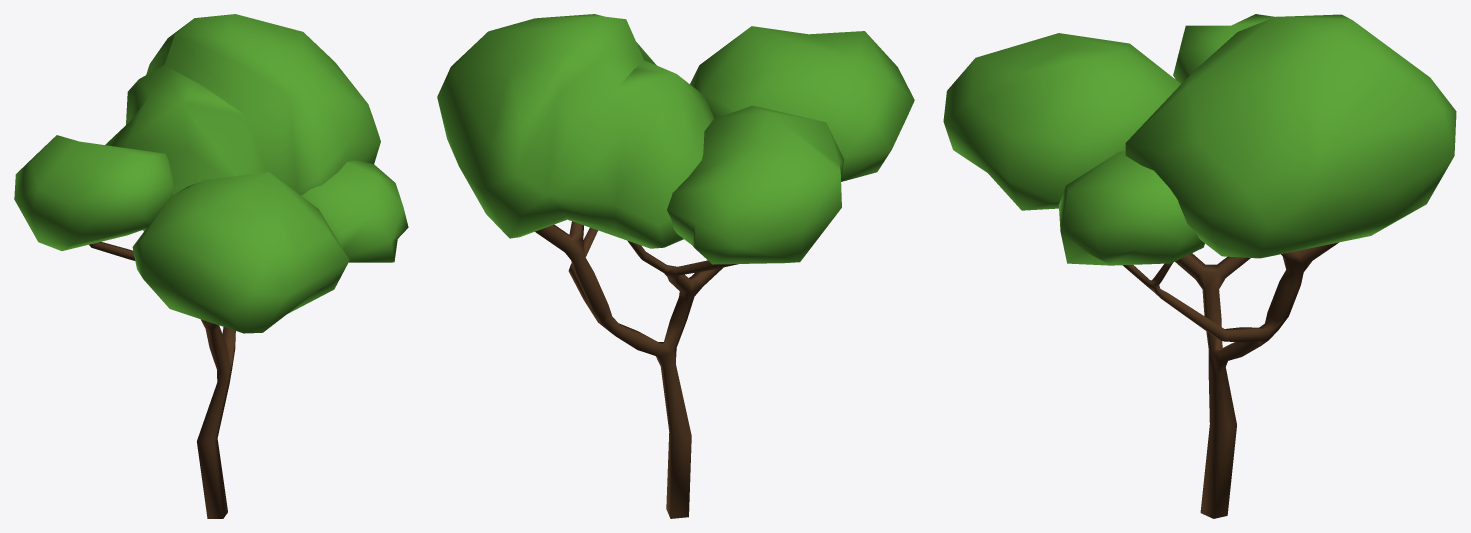
File: Tree 3.fbx
3 renders of one model, left to right at view 1: azimuth 30°, elevation 25°; view 2: azimuth 150°, elevation 25°; view 3: azimuth 270°, elevation 25°, orthographic. The views are drawn at different scales.
Visible parts, largest first — view 1: Icosphere.001, Icosphere.002, Icosphere.004, Icosphere.003, Plane; view 2: Icosphere.001, Icosphere.004, Icosphere.002, Plane; view 3: Icosphere.001, Icosphere.002, Icosphere.003, Plane, Icosphere.004.
Part boxes in pixels (x1,y1,x2,y2): Icosphere.001: (105, 14, 380, 231); Icosphere.002: (132, 172, 349, 333); Icosphere.004: (14, 135, 174, 250); Icosphere.003: (301, 160, 408, 262); Plane: (89, 242, 235, 518); Icosphere.001: (437, 14, 714, 248); Icosphere.004: (667, 105, 844, 264); Icosphere.002: (690, 26, 914, 181); Plane: (535, 221, 738, 518); Icosphere.001: (1125, 14, 1456, 258); Icosphere.002: (943, 33, 1180, 210); Icosphere.003: (1058, 151, 1204, 265); Plane: (1123, 242, 1338, 518); Icosphere.004: (1173, 14, 1274, 84).
Size of the model in its own units: 1333 by 1657 by 1484.
